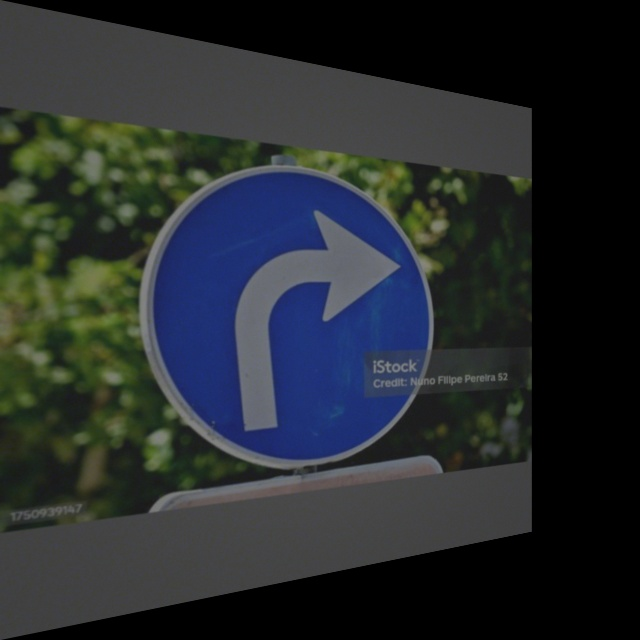Compulsory_Turn_Right_Ahead: (150, 150, 429, 471)
